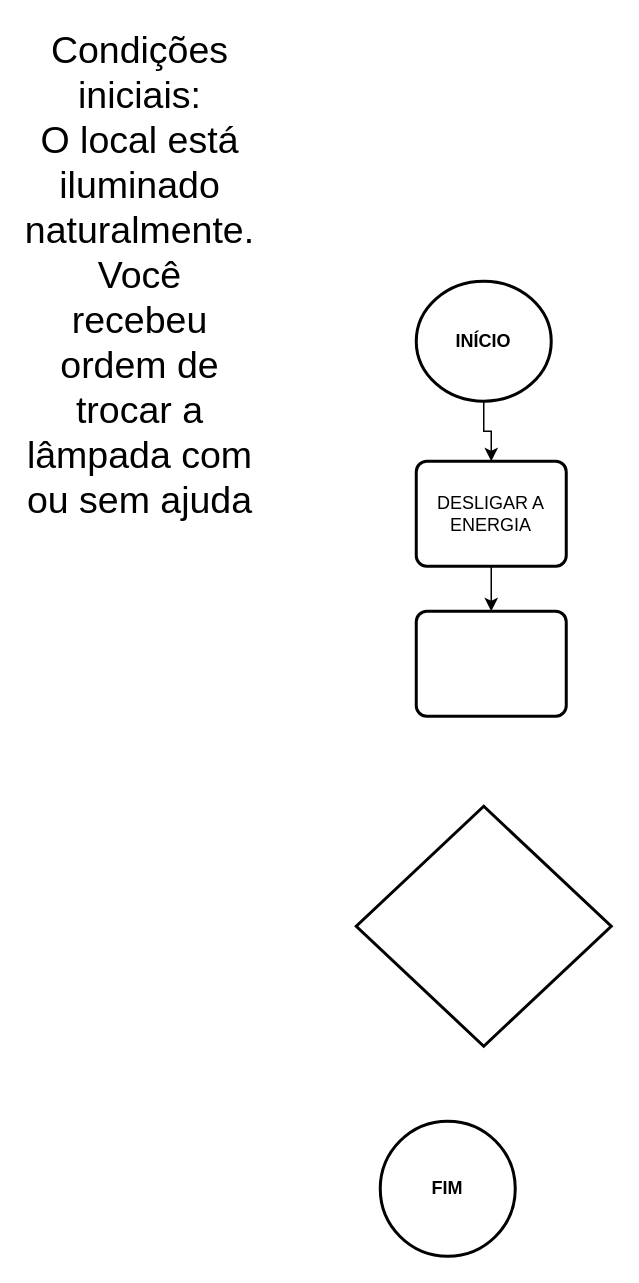
Image size: 639x1283. Some labels were removed from this diagram. The centre of each missing label's shape, as x and y in pixels:
"PEGAR A ESCADA" goes at (x=490, y=663).
"TEM ALGUÉM PARA SEGURAR A ESCADA?" goes at (x=483, y=925).
